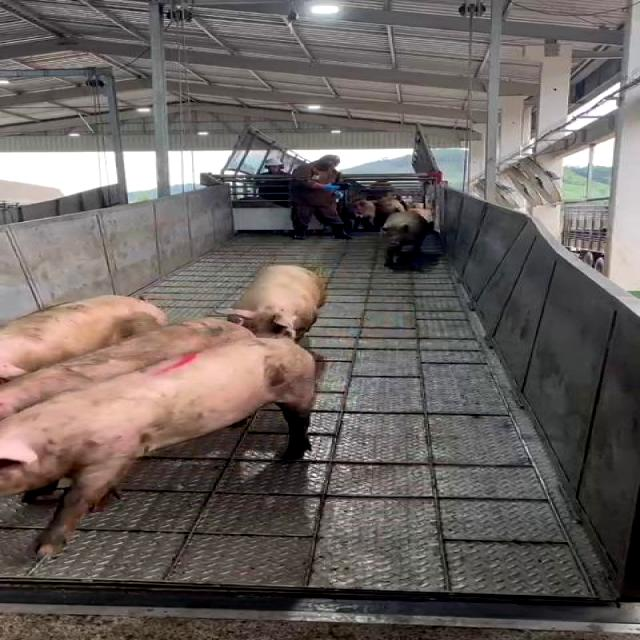pig: (0, 338, 316, 556), (0, 319, 252, 418), (0, 295, 167, 381), (227, 265, 325, 339), (385, 211, 431, 264)
